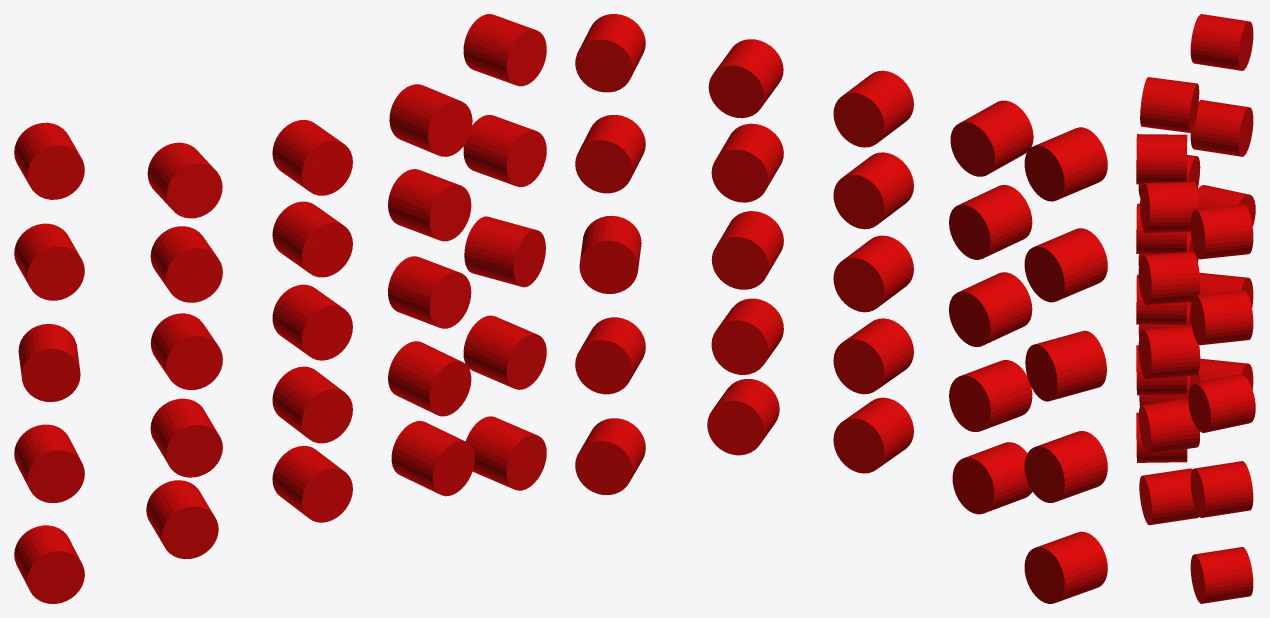
3 renders of one model, left to right at view 1: azimuth 30°, elevation 25°; view 2: azimuth 150°, elevation 25°; view 3: azimuth 270°, elevation 25°, orthographic. The views are drawn at different scales.
Size of the model in its own units: 0.0103 by 0.00857 by 0.00238.
